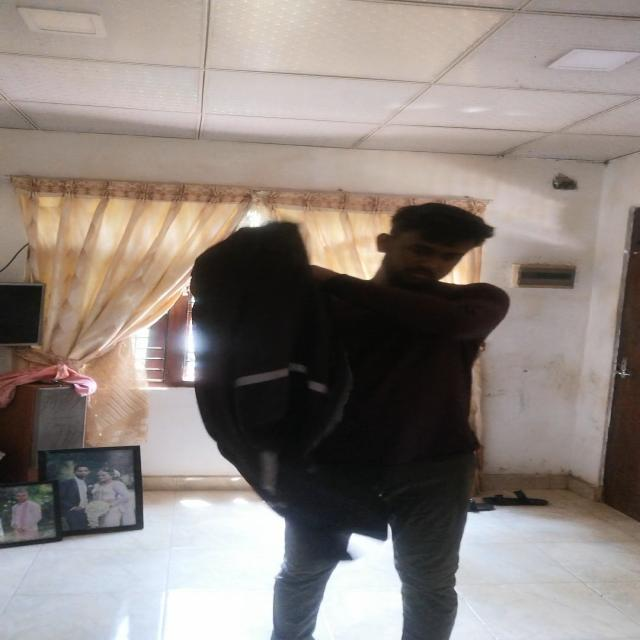Person: (203, 201, 512, 640)
